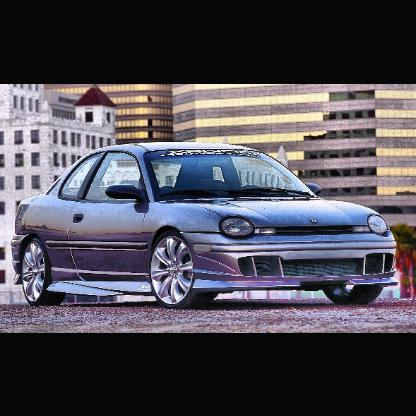Plymouth Neon Coupe 1999: (12, 143, 399, 311)
